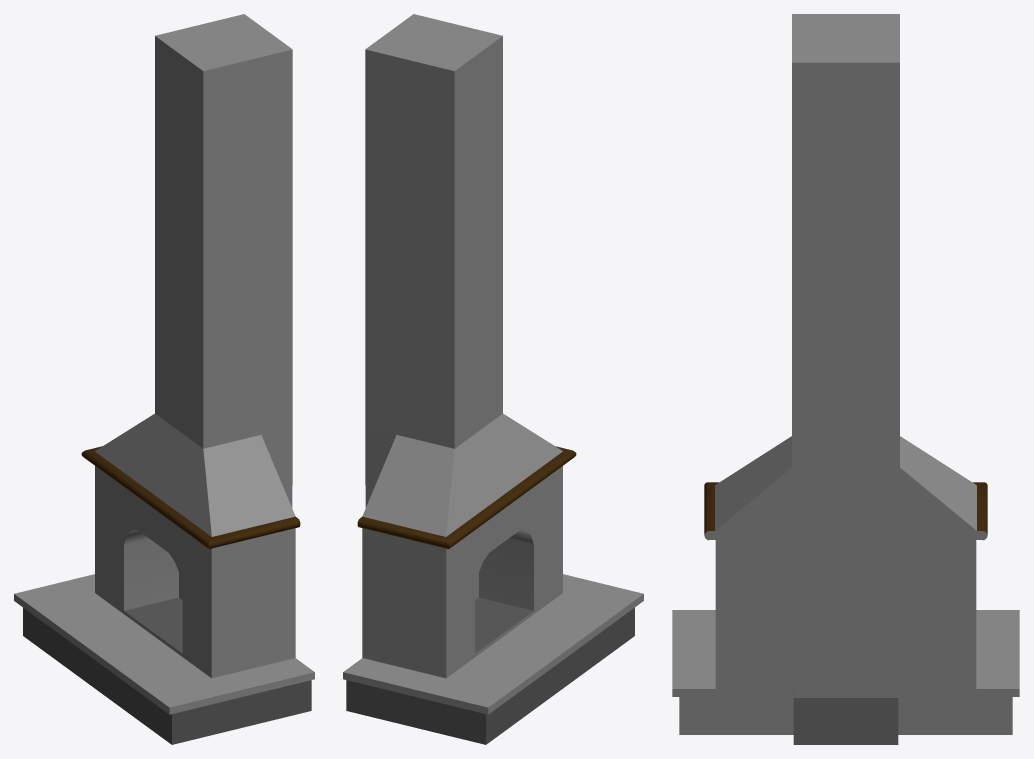
Rendered from Fireplace.fbx.
3 views of the same model, side by side, from view 1: azimuth 30°, elevation 25°; view 2: azimuth 150°, elevation 25°; view 3: azimuth 270°, elevation 25° (orthographic). The views are drawn at different scales.
Visible parts, largest first — view 1: pCube11; view 2: pCube11; view 3: pCube11.
Boxes of the visible parts, <box> form: pCube11: <box>14,14,314,744</box>; pCube11: <box>343,14,643,744</box>; pCube11: <box>672,14,1019,744</box>.
Bounding box in the file's own units: 6.32 × 21.1 × 9.64.
